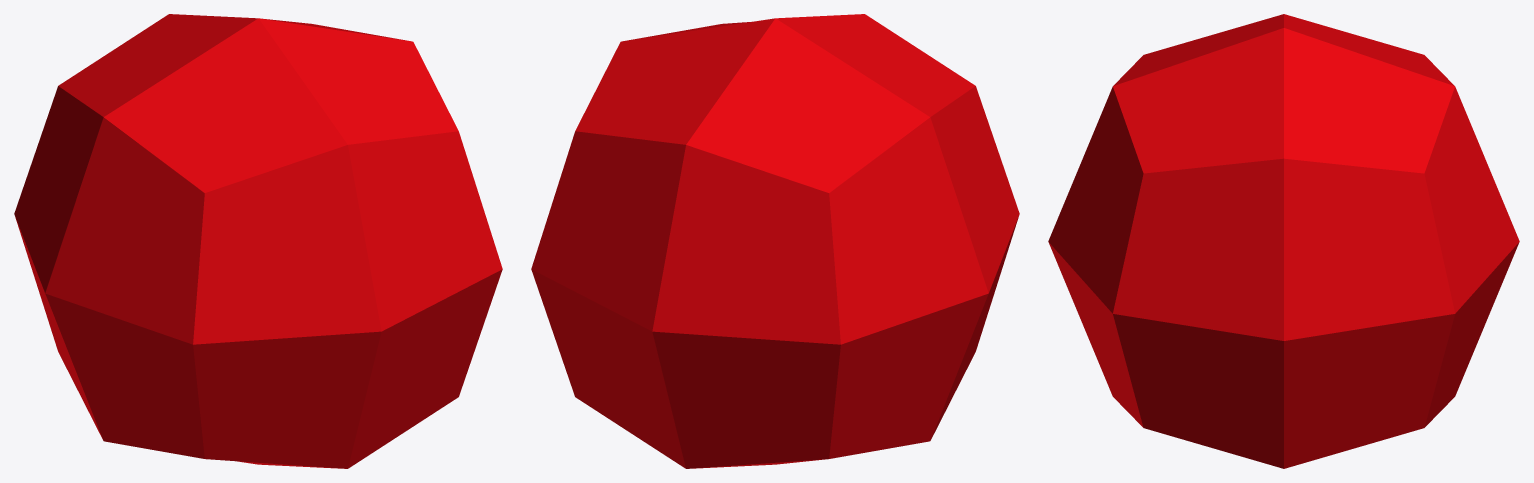
Rendered from strawberry.glb.
3 views of the same model, side by side, from view 1: azimuth 30°, elevation 25°; view 2: azimuth 150°, elevation 25°; view 3: azimuth 270°, elevation 25° (orthographic). The views are drawn at different scales.
Visible parts, largest first — view 1: Cube; view 2: Cube; view 3: Cube.
Boxes of the visible parts, x1=… form: Cube: x1=14, y1=14, x2=502, y2=468; Cube: x1=531, y1=14, x2=1019, y2=468; Cube: x1=1048, y1=14, x2=1519, y2=468.
Size of the model in its own units: 0.3468 by 0.3468 by 0.3468.
